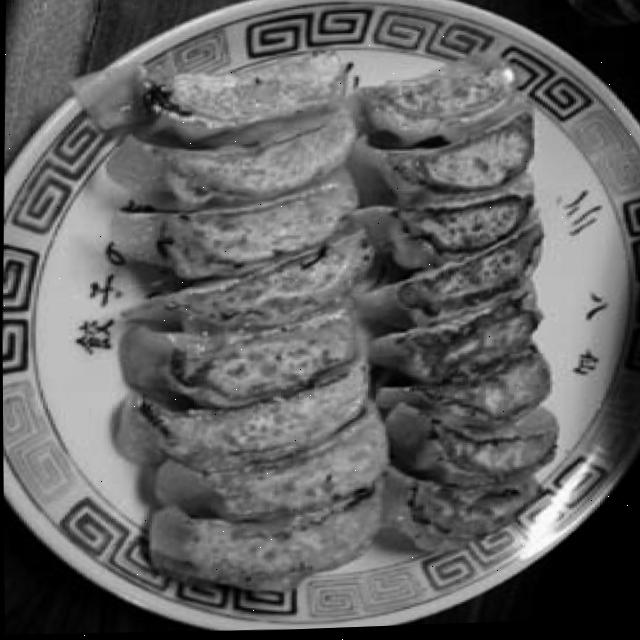带馅早点: (108, 25, 546, 604)
